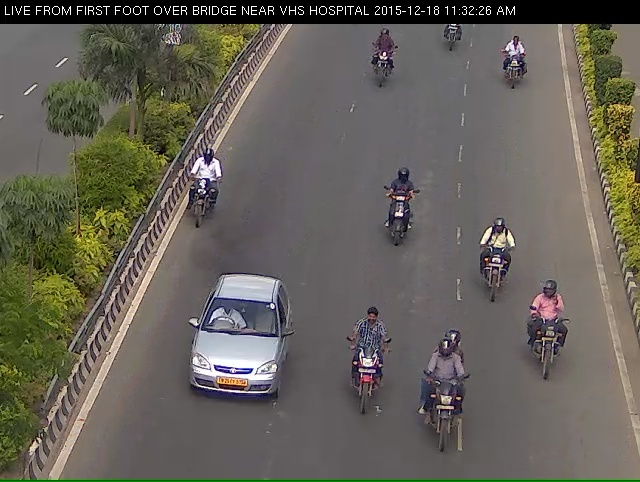Car: (163, 300, 292, 440)
Person: (425, 357, 478, 476), (332, 323, 384, 443), (531, 284, 572, 399), (168, 157, 222, 239), (476, 236, 515, 321), (359, 27, 404, 100), (381, 173, 416, 258), (500, 45, 535, 105), (435, 14, 473, 63)
